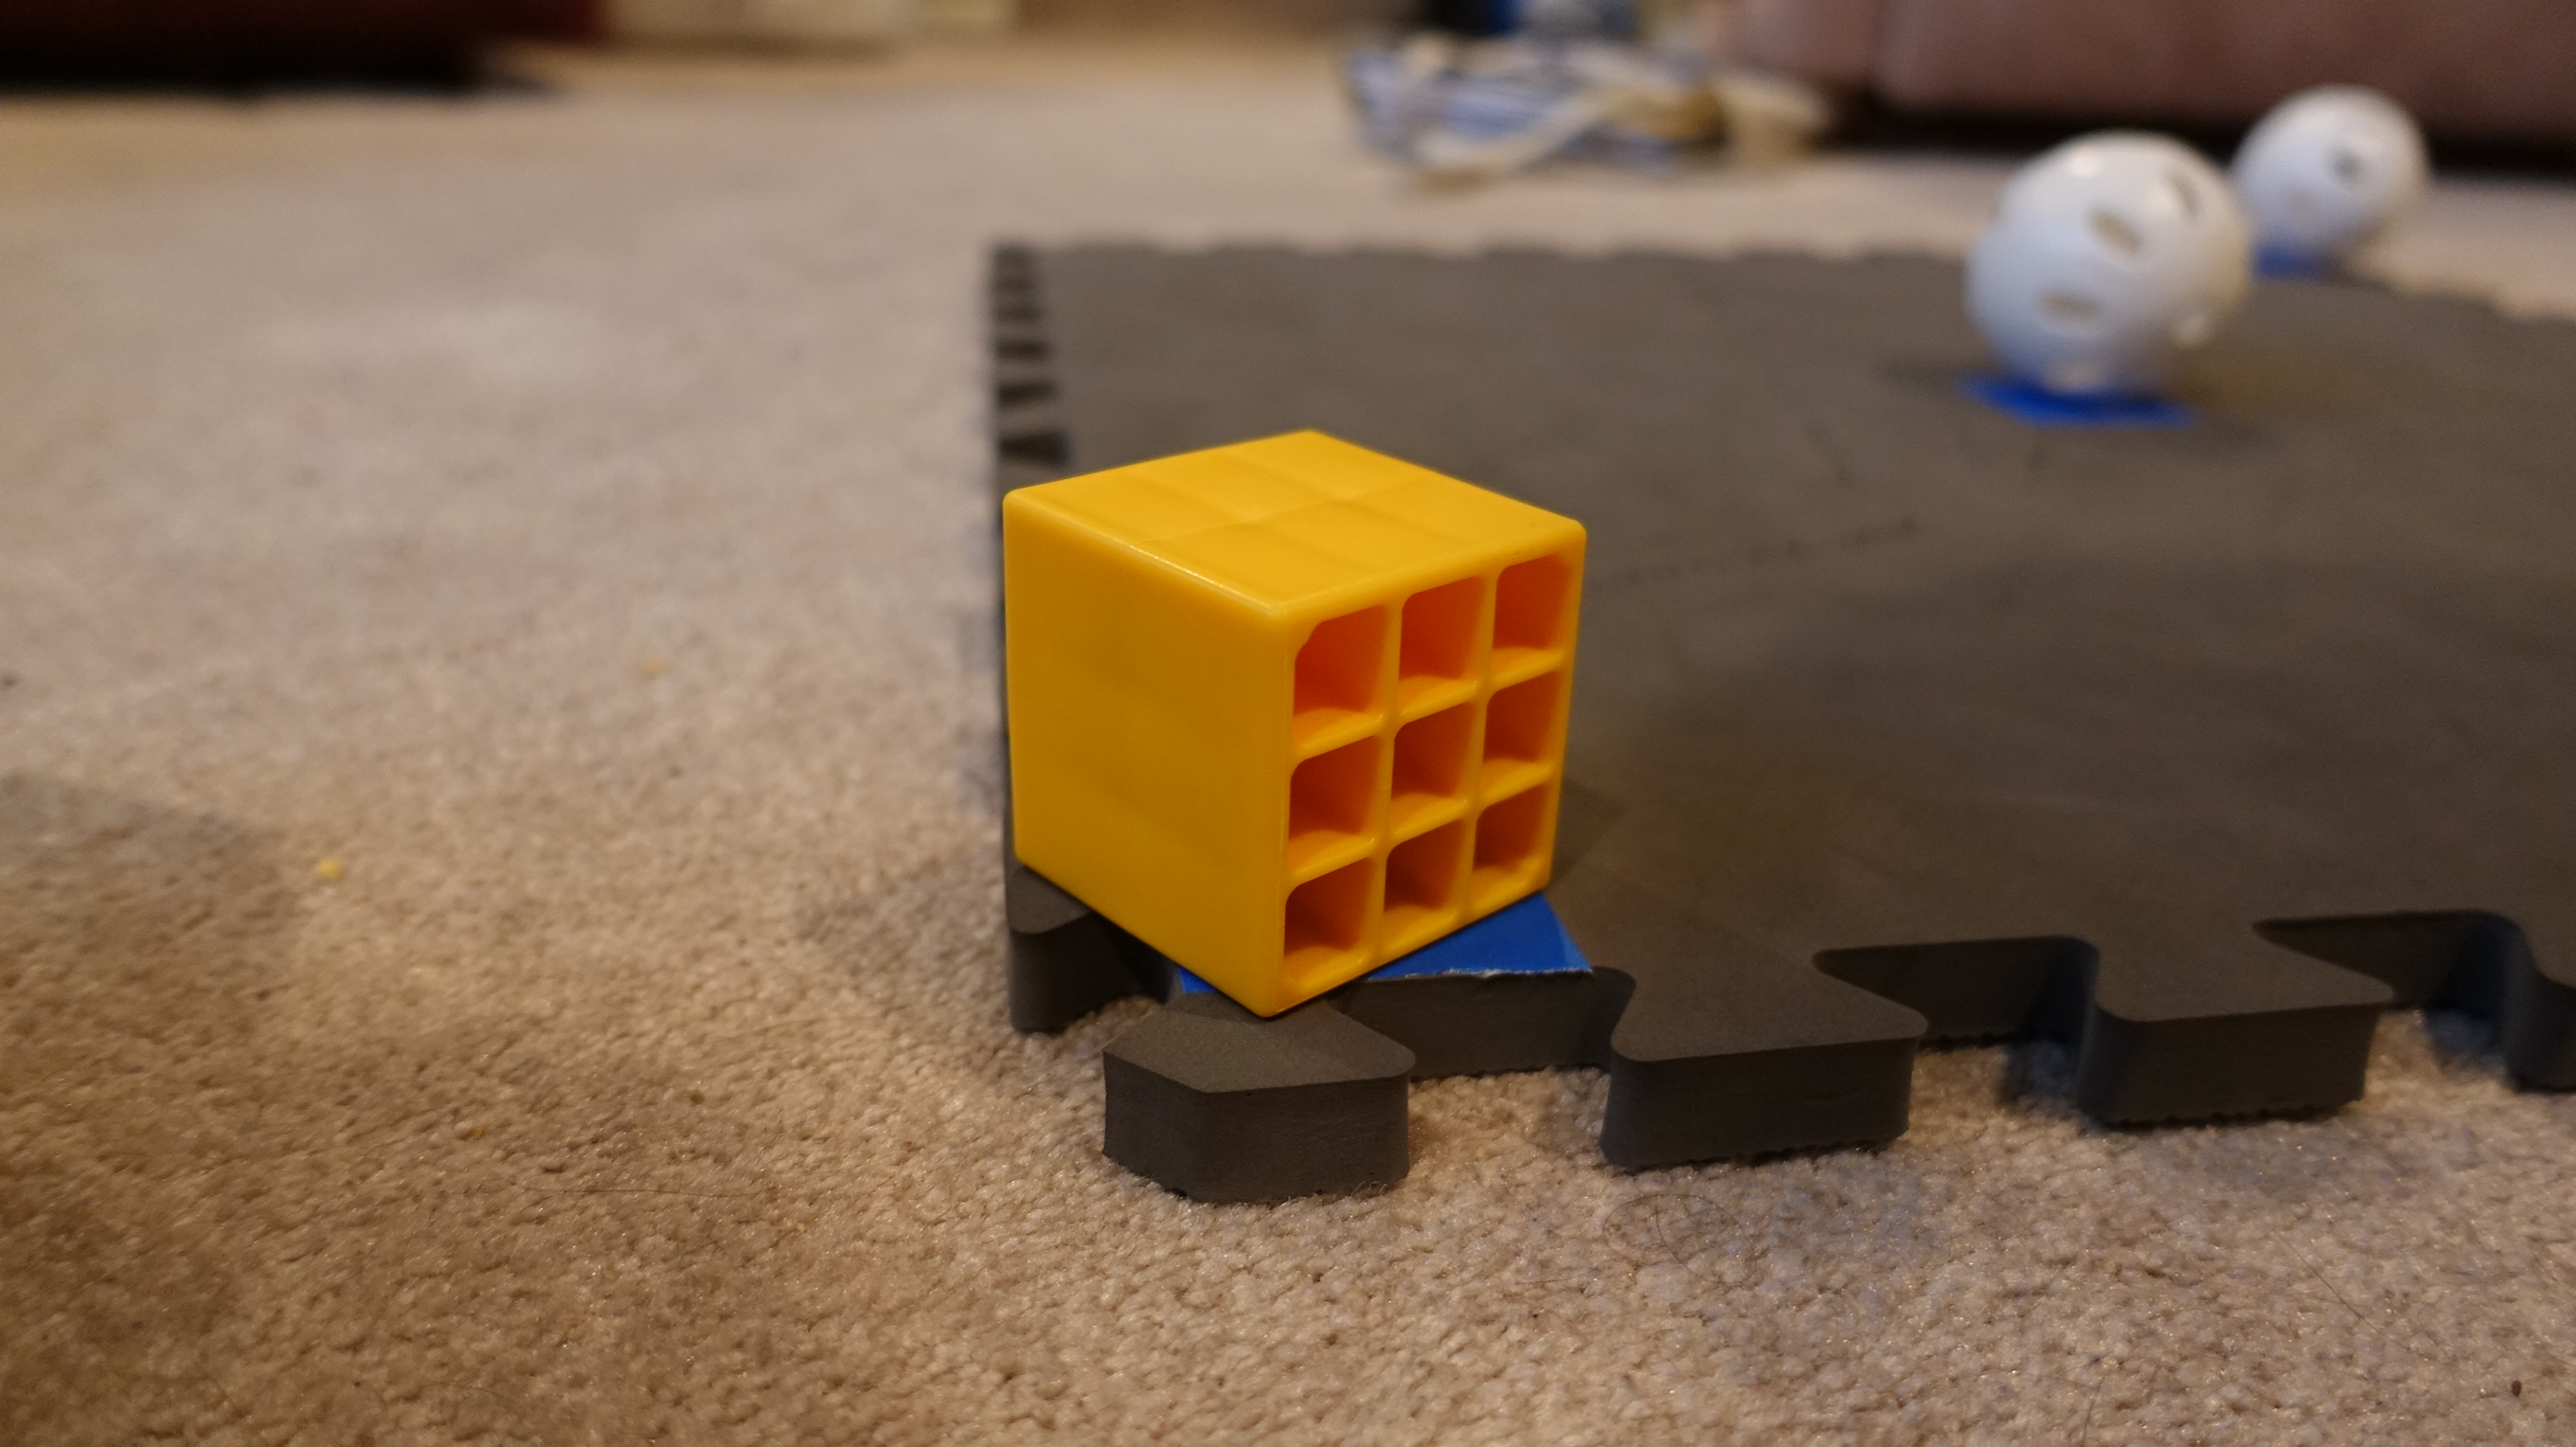gold: (1001, 419, 1592, 1024)
silver: (1964, 129, 2252, 409), (2229, 80, 2438, 278)
